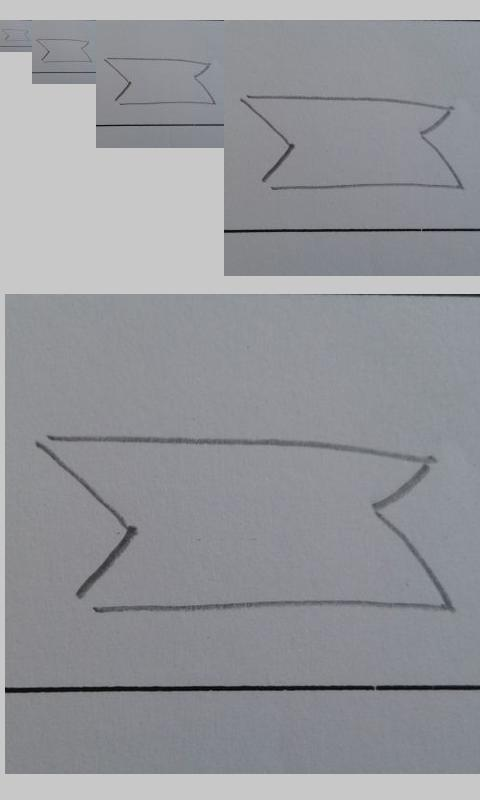edit_text: (35, 433, 453, 614), (242, 95, 461, 190), (104, 56, 216, 106), (36, 38, 92, 63), (1, 28, 31, 42)
